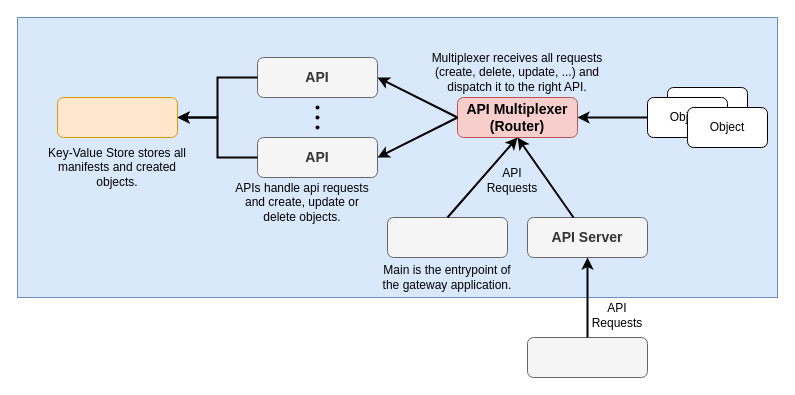
This 795x395 diagram has some shape labels left out. The centre of each missing label's shape, as x and y in pixels:
"CLI" goes at (587,357).
"Key-Value Store" goes at (117,117).
"Main" goes at (447,237).
